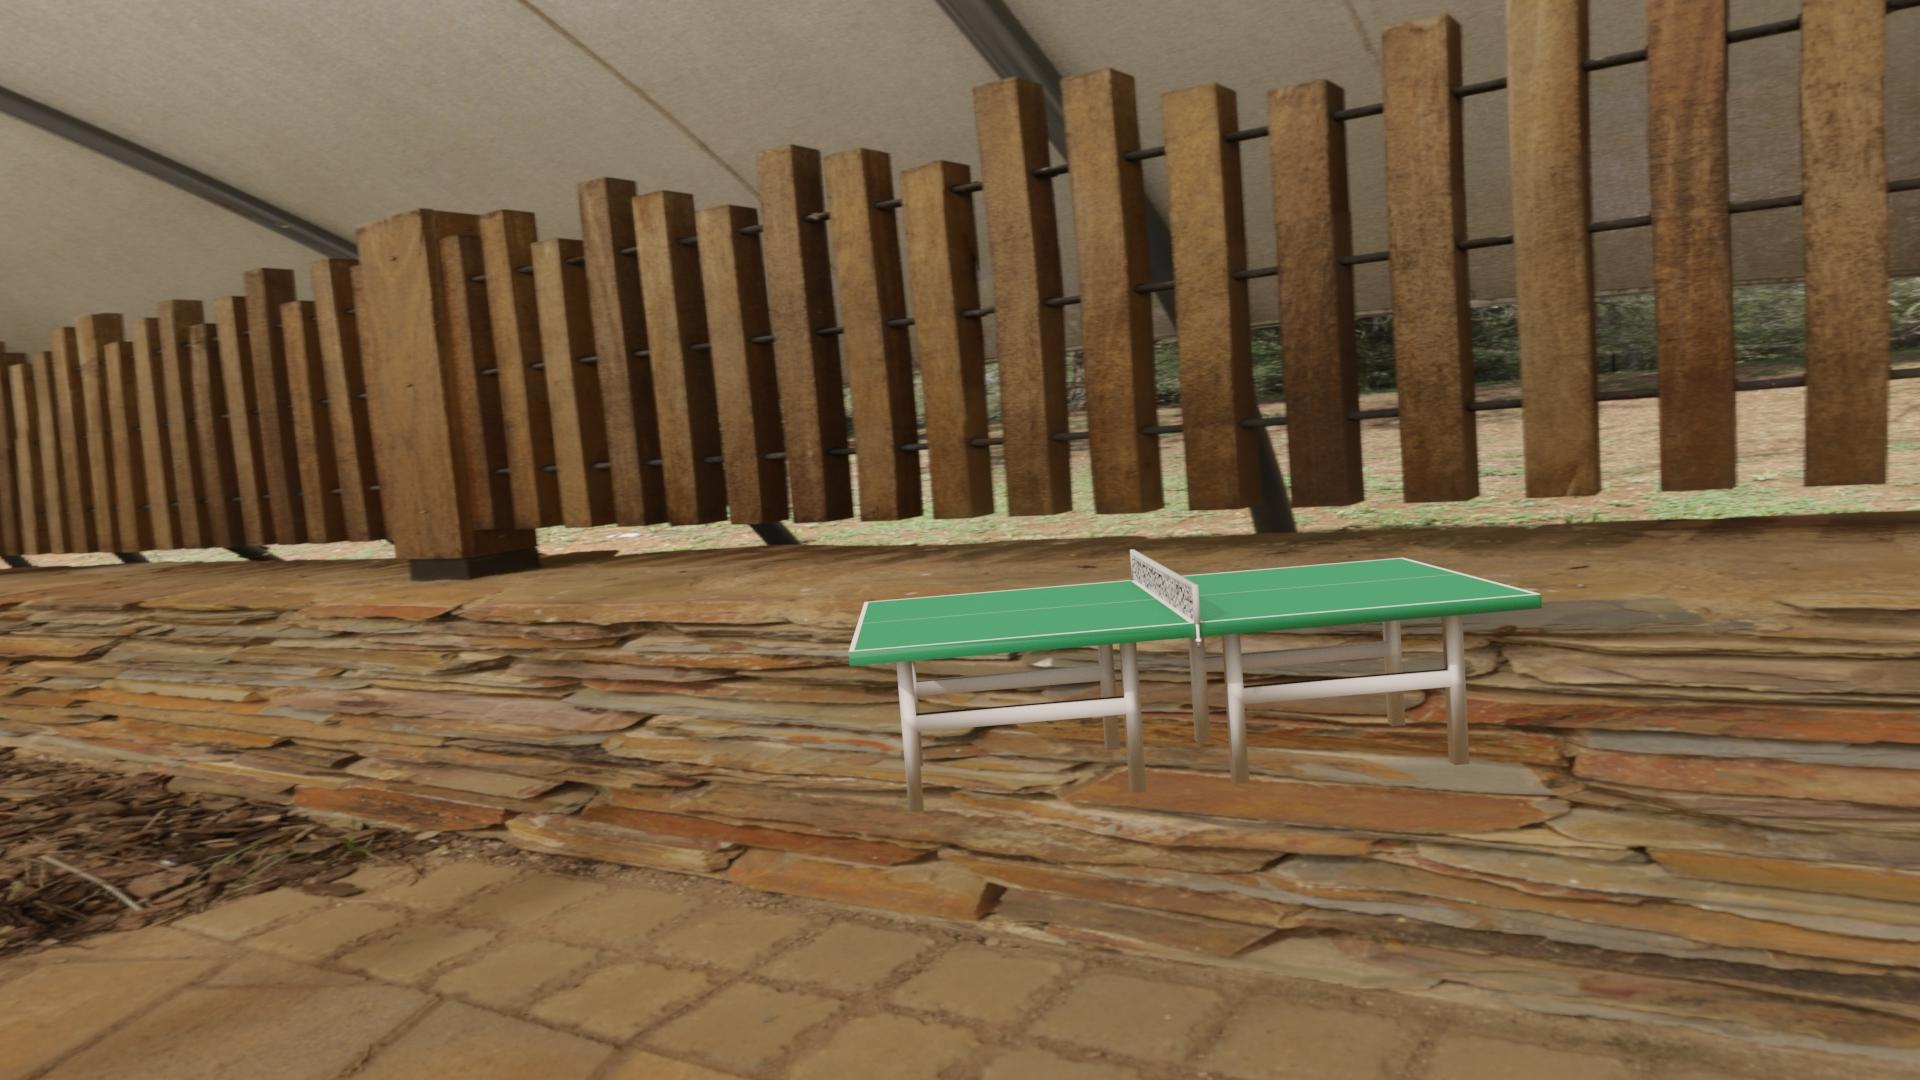table: (855, 558, 1534, 650)
